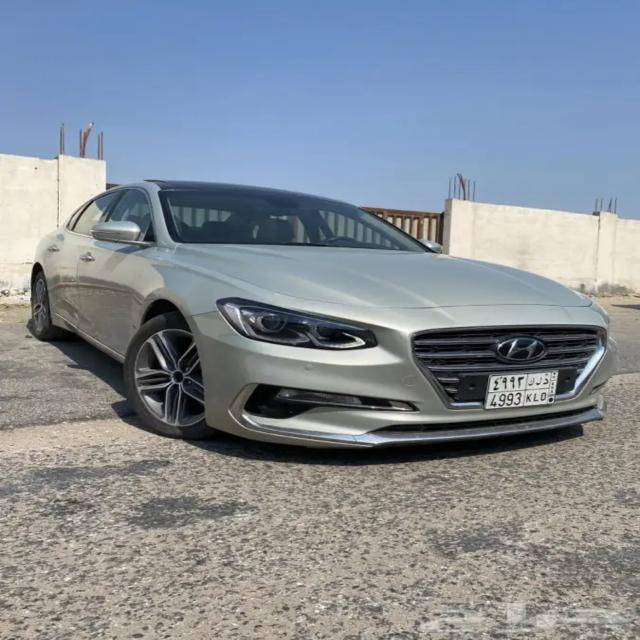license_plate: (488, 373, 560, 411)
